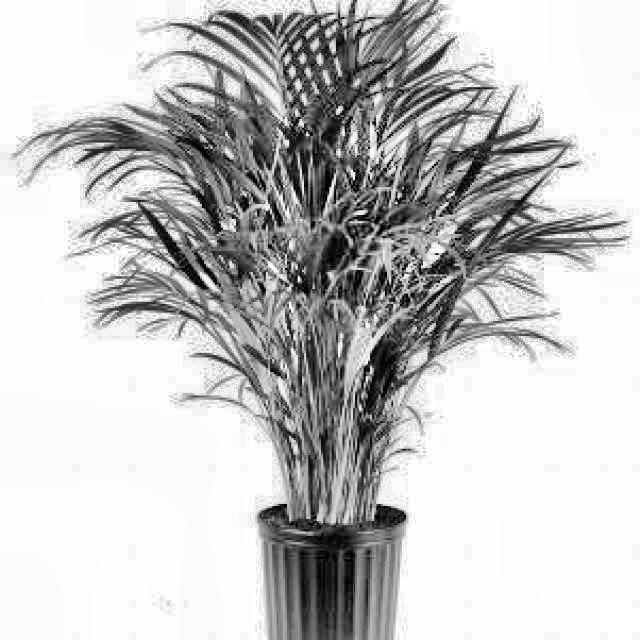plants: (70, 4, 612, 591)
